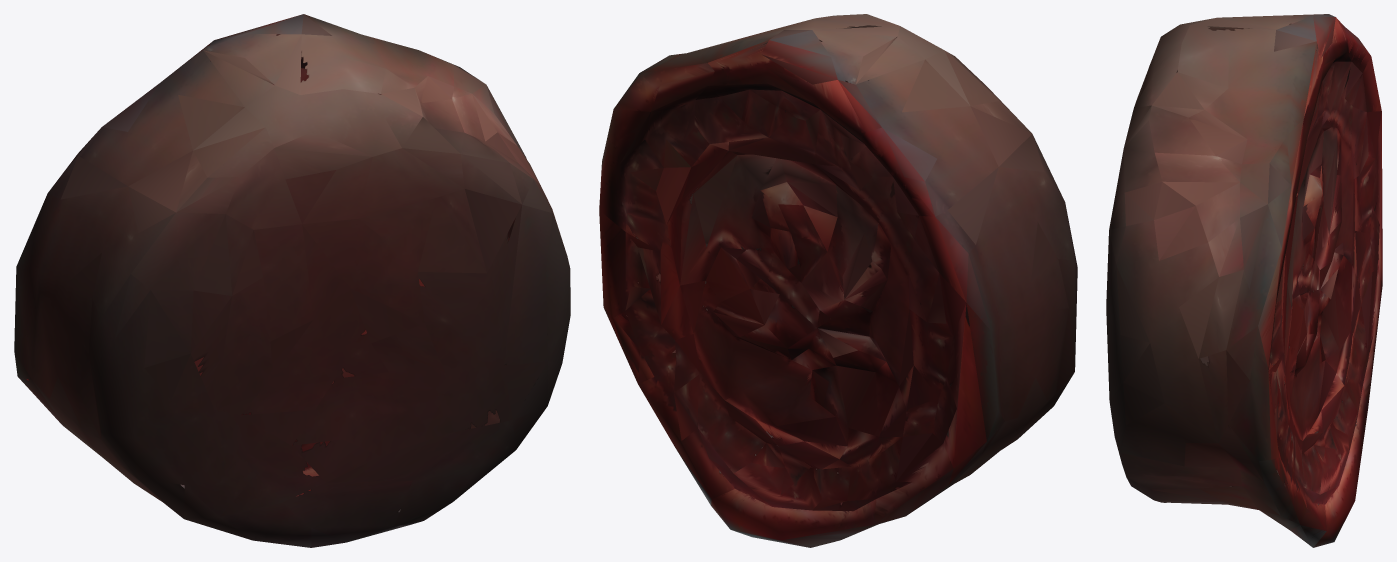
The model's file is 17_courier.fbx.
3 views of the same model, side by side, from view 1: azimuth 30°, elevation 25°; view 2: azimuth 150°, elevation 25°; view 3: azimuth 270°, elevation 25° (orthographic). The views are drawn at different scales.
Parts seen in each view (by area): view 1: 17_courier; view 2: 17_courier; view 3: 17_courier.
Boxes of the visible parts, x1,y1,x2,y2 form: 17_courier: (14, 14, 570, 547); 17_courier: (599, 14, 1077, 547); 17_courier: (1106, 14, 1382, 547).
Bounding box in the file's own units: 19.29 × 20 × 10.19.
Materials: 1 (1 with a texture image).
